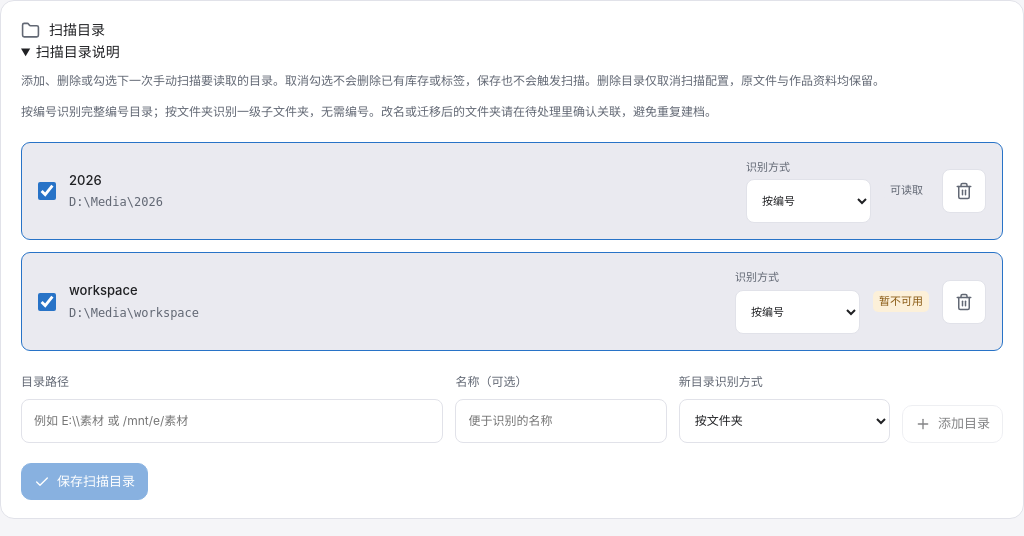
Scenario: persisted scan directory selection › can delete every directory and save an empty catalog
Click the button named "删除目录 2026". click: [964, 191]
box: 942,169 -> 986,213
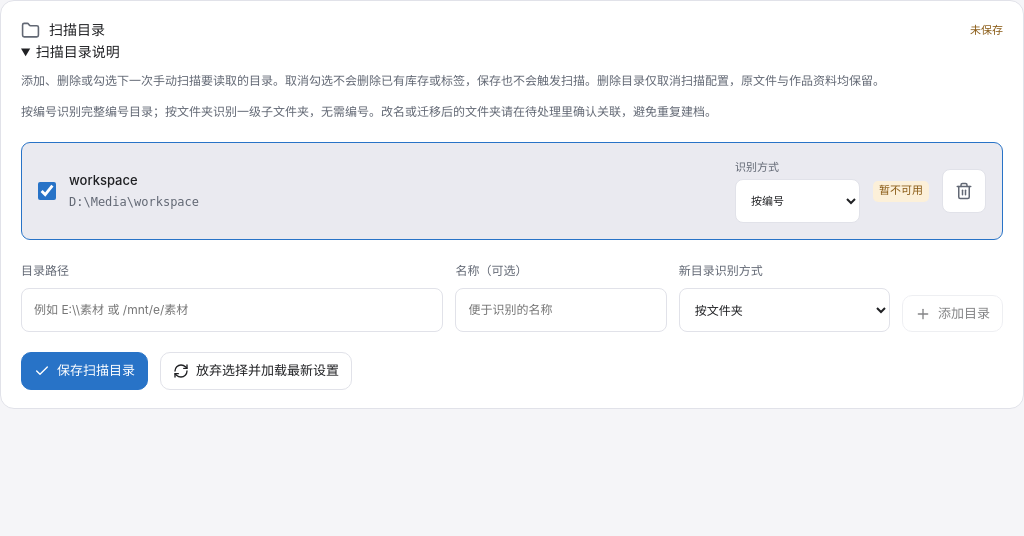
Click the button named "删除目录 workspace". click: [964, 191]
box: 942,169 -> 986,213
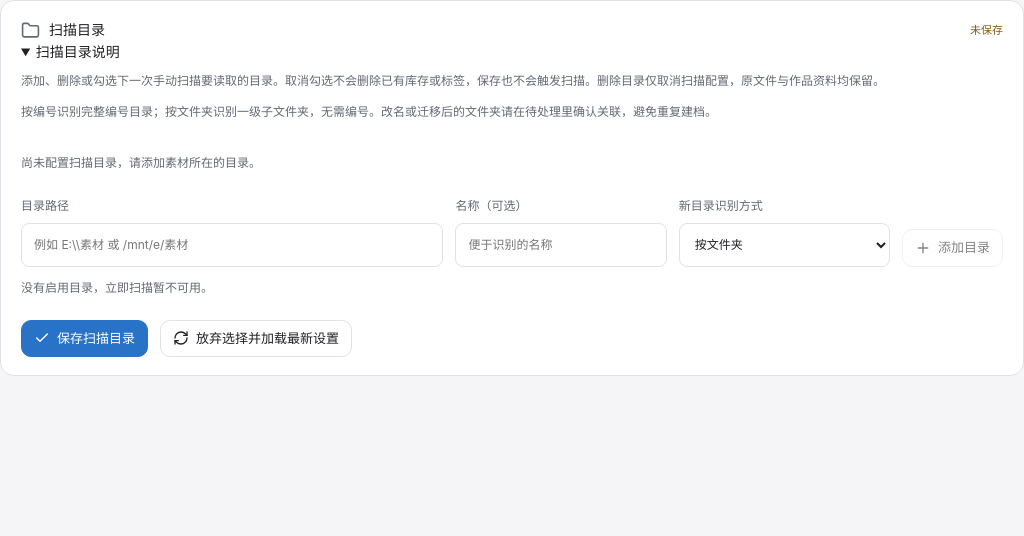
Click the button "保存扫描目录". click: [84, 338]
box: 21,320 -> 148,357
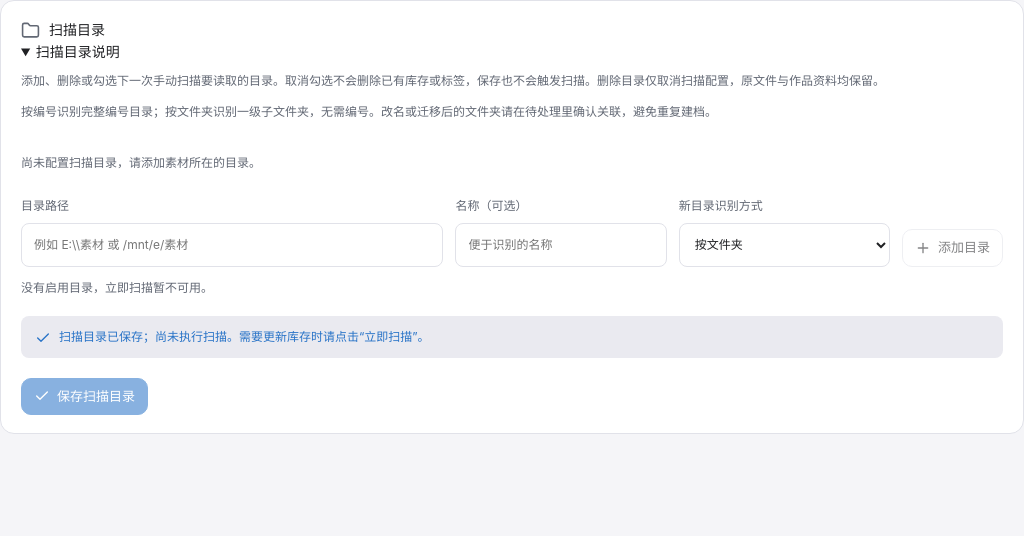
Check: the text "尚未配置扫描目录，请添加素材所在的目录。" is shown, box 21,155 -> 261,170
Check: the text "扫描目录已保存；尚未执行扫描。需要更新库存时请点击“立即扫描”。" is shown, box 21,316 -> 1003,358
